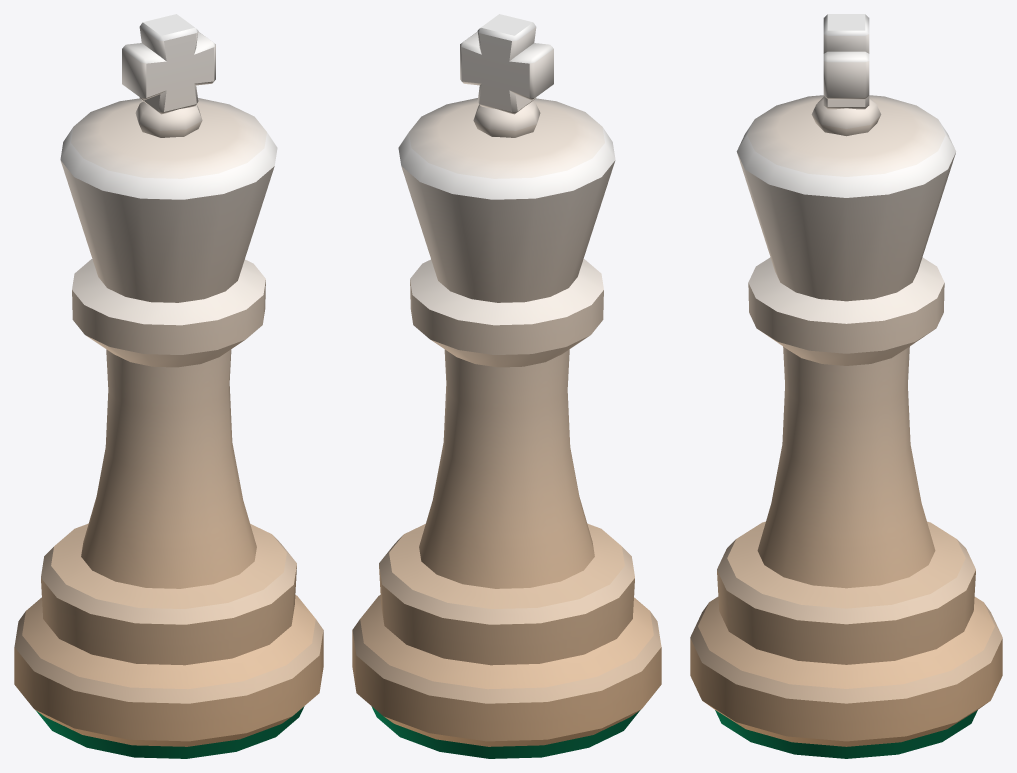
File: chess_white_king.obj
3 views of the same model, side by side, from view 1: azimuth 30°, elevation 25°; view 2: azimuth 150°, elevation 25°; view 3: azimuth 270°, elevation 25° (orthographic).
Parts seen in each view (by area): view 1: chess_white_king; view 2: chess_white_king; view 3: chess_white_king.
Boxes of the visible parts, left/top/right/bottom form: chess_white_king: left=14, top=14, right=323, bottom=758; chess_white_king: left=352, top=14, right=661, bottom=758; chess_white_king: left=690, top=14, right=1002, bottom=758.
Size of the model in its own units: 0.75 by 1.8 by 0.75.
1 material, 1 textured.
